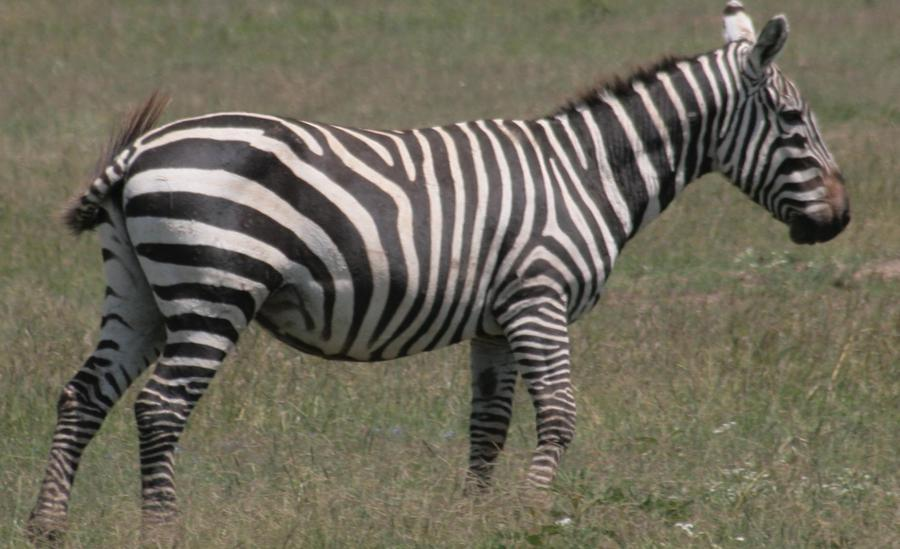zebra_plains: (124, 75, 618, 376)
